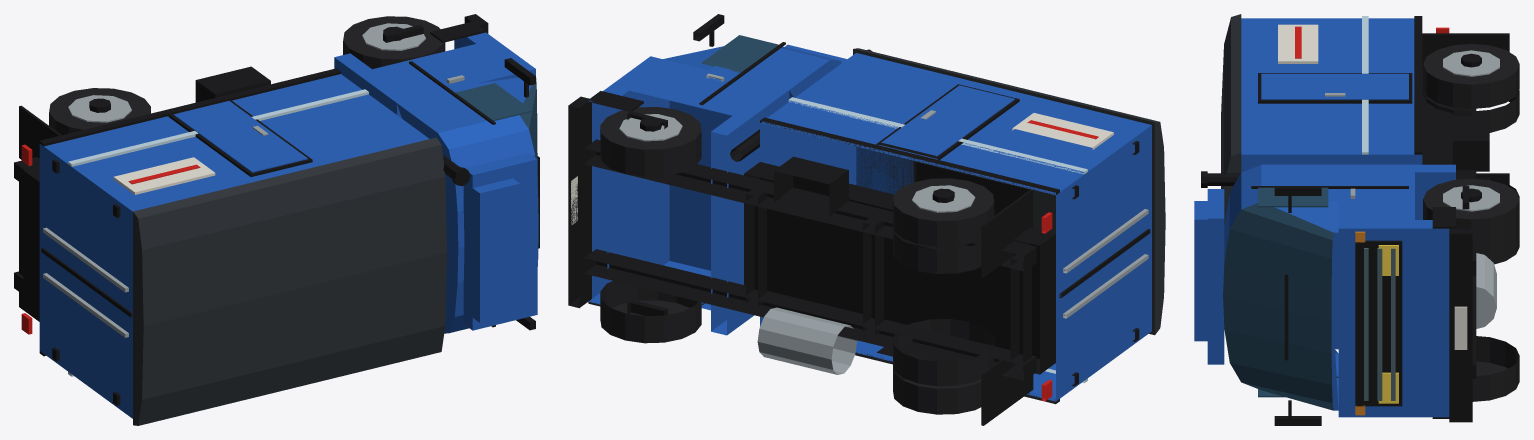
The picture shows the model from 3 angles, left to right: view 1: azimuth 30°, elevation 25°; view 2: azimuth 150°, elevation 25°; view 3: azimuth 270°, elevation 25°; orthographic projection. The views are drawn at different scales.
Visible parts, largest first — view 1: default_roof, default_body, default_cab_upper, default_air_dam_top, default_air_dam, default_side1_-1.55_1.95_cc1, default_cab_arch, default_front1, default_rear_out1, default_subframe, default_side1_-3.60_1.75_black, default_cab_back (+11 smaller); view 2: default_body, default_subframe, default_cab_arch, default_chassis-1, default_cab_back, default_roof, default_chassis1, default_cab_front, default_front1, default_rear_out1, default_fuel_tank, default_bumper (+22 smaller); view 3: default_cab_upper, default_body, default_cab_front, default_rear_out1, default_grille, default_front1, default_bumper, default_side1_-1.55_1.95_cc1, default_cab_arch, default_roof, default_air_dam, default_front-1 (+27 smaller).
Boxes of the visible parts, box(x1,y1,x2,y2) form: default_roof: box(133, 137, 446, 425); default_body: box(39, 74, 429, 418); default_cab_upper: box(397, 77, 538, 333); default_air_dam_top: box(472, 178, 519, 322); default_air_dam: box(463, 153, 537, 330); default_side1_-1.55_1.95_cc1: box(173, 101, 307, 172); default_cab_arch: box(372, 44, 516, 98); default_front1: box(343, 16, 445, 69); default_rear_out1: box(49, 88, 150, 135); default_subframe: box(23, 166, 39, 311); default_side1_-3.60_1.75_black: box(39, 68, 340, 146); default_cab_back: box(334, 53, 412, 118); default_body: box(760, 53, 1151, 401); default_subframe: box(744, 162, 1055, 374); default_cab_arch: box(629, 61, 772, 310); default_chassis-1: box(583, 249, 1036, 380); default_cab_back: box(711, 86, 789, 335); default_roof: box(853, 48, 1165, 335); default_chassis1: box(583, 139, 1036, 271); default_cab_front: box(588, 56, 669, 304); default_front1: box(600, 107, 701, 176); default_rear_out1: box(893, 178, 994, 246); default_fuel_tank: box(757, 307, 856, 374); default_bumper: box(568, 96, 591, 308); default_cab_upper: box(1223, 164, 1338, 410); default_body: box(1241, 18, 1422, 349); default_cab_front: box(1338, 220, 1449, 417); default_rear_out1: box(1423, 44, 1519, 108); default_grille: box(1355, 240, 1402, 406); default_front1: box(1423, 178, 1519, 244); default_bumper: box(1449, 228, 1472, 422); default_side1_-1.55_1.95_cc1: box(1261, 73, 1408, 99); default_cab_arch: box(1338, 172, 1414, 219); default_roof: box(1221, 14, 1241, 224); default_air_dam: box(1207, 189, 1224, 364); default_front-1: box(1472, 336, 1519, 401).
Bounding box in the file's own units: 7.56 × 3.9 × 4.85.
